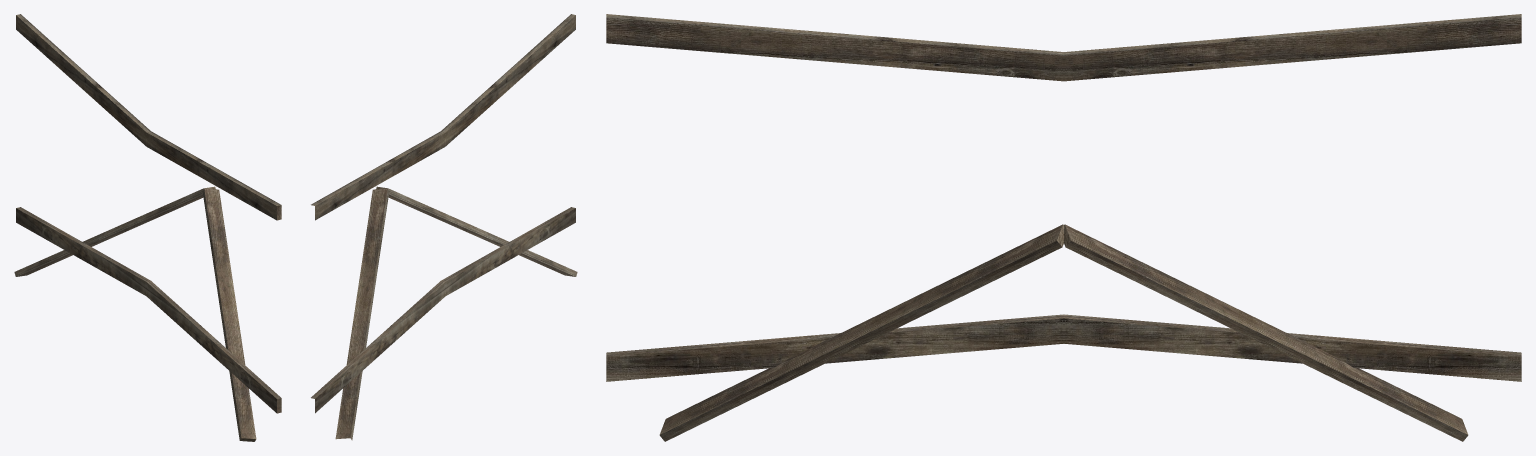
Rendered from trenchframe03.glb.
The picture shows the model from 3 angles, left to right: view 1: azimuth 30°, elevation 25°; view 2: azimuth 150°, elevation 25°; view 3: azimuth 270°, elevation 25°; orthographic projection. The views are drawn at different scales.
Size of the model in its own units: 38.79 by 102 by 196.
1 material, 1 textured.
